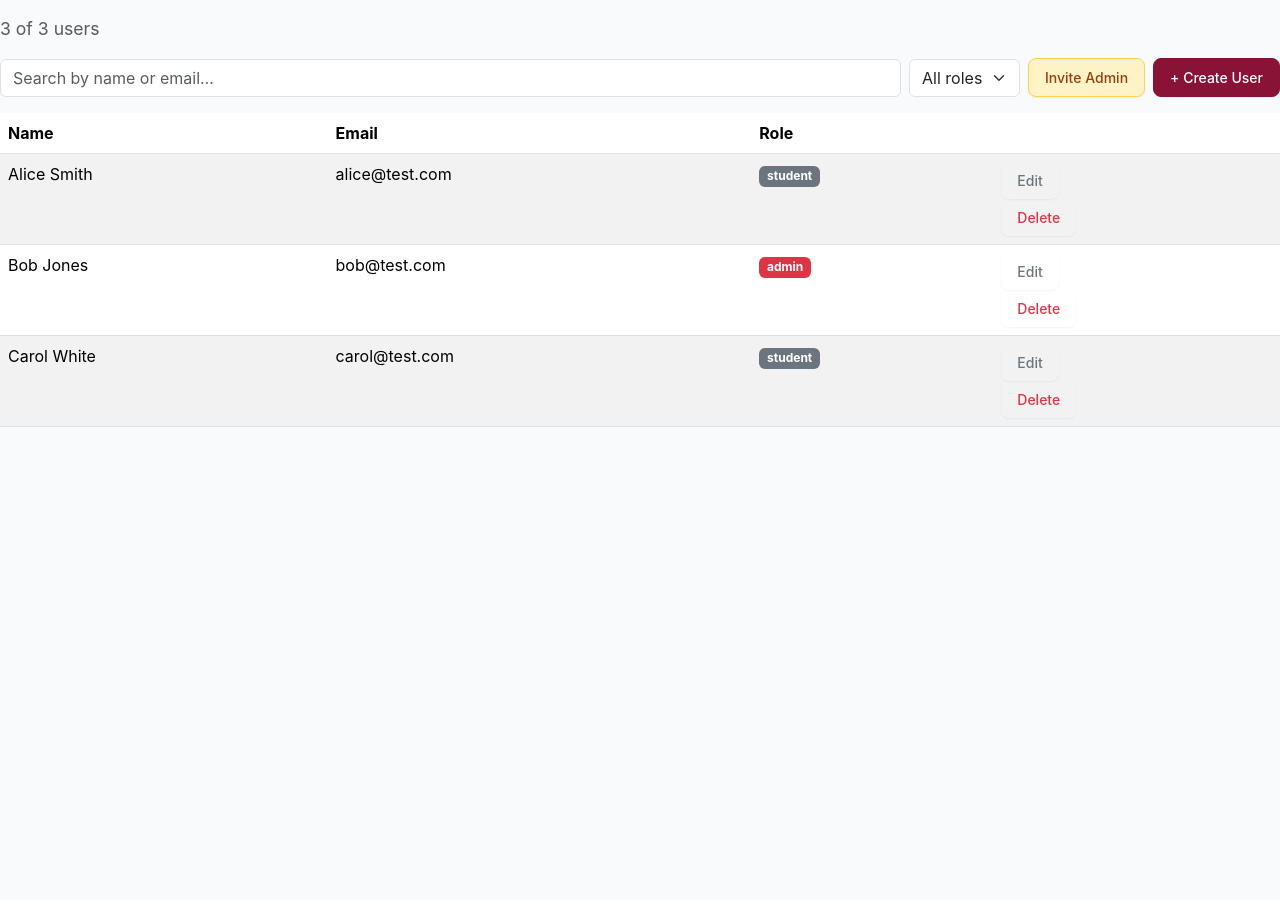
Scenario: UserManagementTab › opens invite admin modal on button click
This screenshot has width=1280, height=900.
Click the button "Invite Admin" at (1086,78), box left=1028, top=58, right=1145, bottom=97
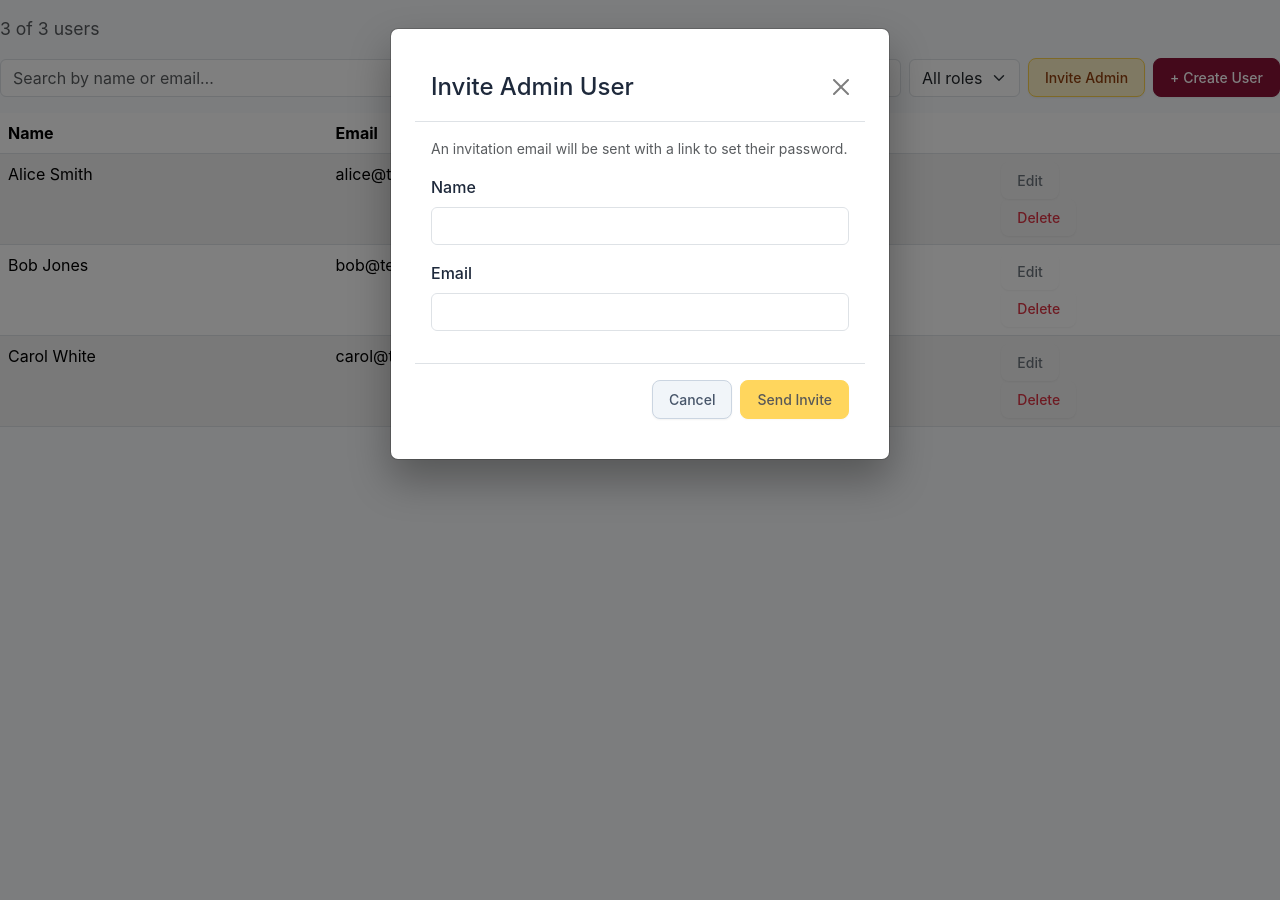
Expected: the text "Invite Admin User" is shown, left=431, top=69, right=634, bottom=105
